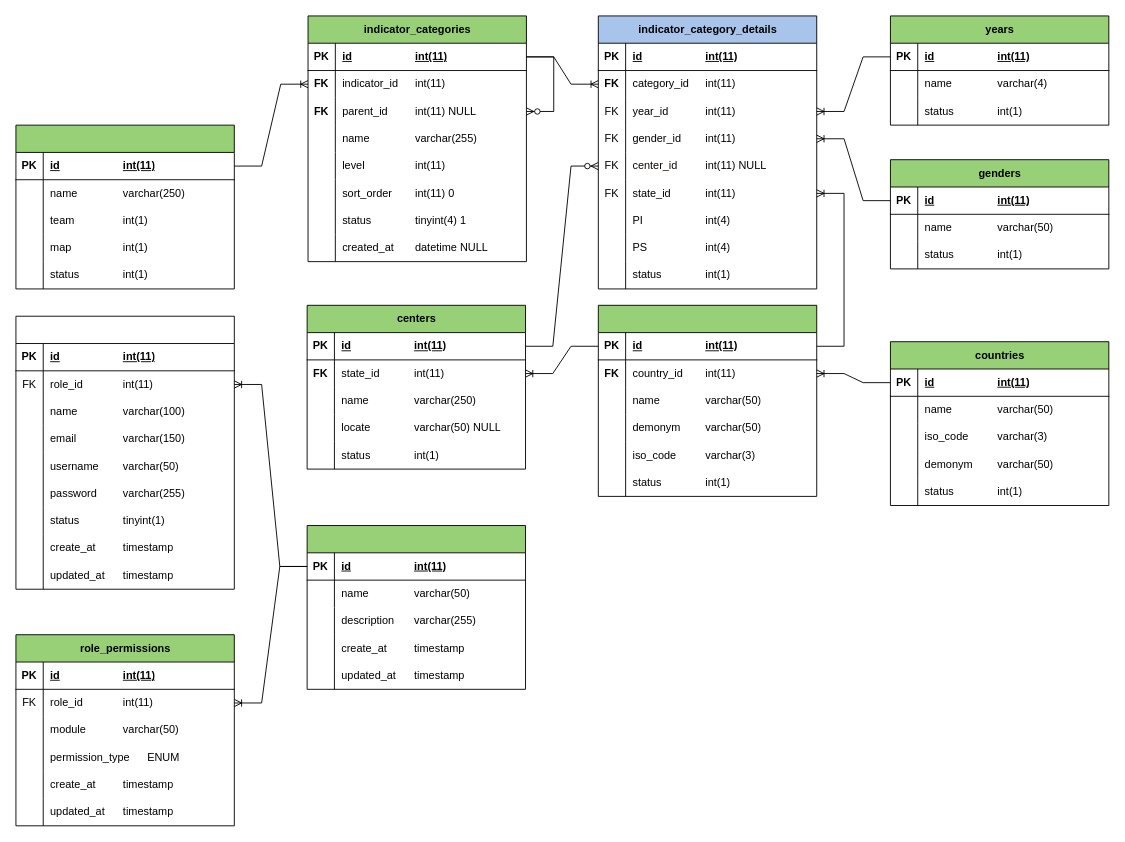
The diagram is 1125 pixels wide and 842 high, and some of its shapes have lost their labels. Here are the shapes that lost their labels. From the top down, the box of each, then its label:
(15, 124, 234, 289): indicators
(597, 304, 817, 496): states
(15, 315, 234, 589): users
(306, 525, 526, 689): roles
